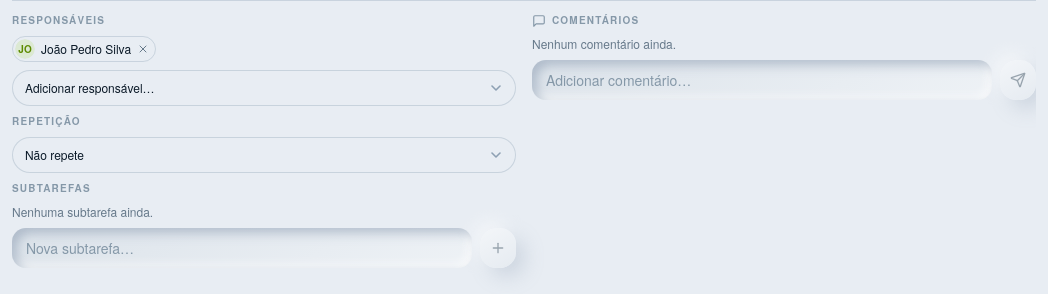
it: TaskDetailPanel › adds a new assignee from the picker and shows them right away
Expected: the text "João Pedro Silva" is shown, [41,40,131,57]
Select "Maria Fernanda Alves" in the dropdown named "adicionar responsável" at (264, 88), box [12,70,516,106]
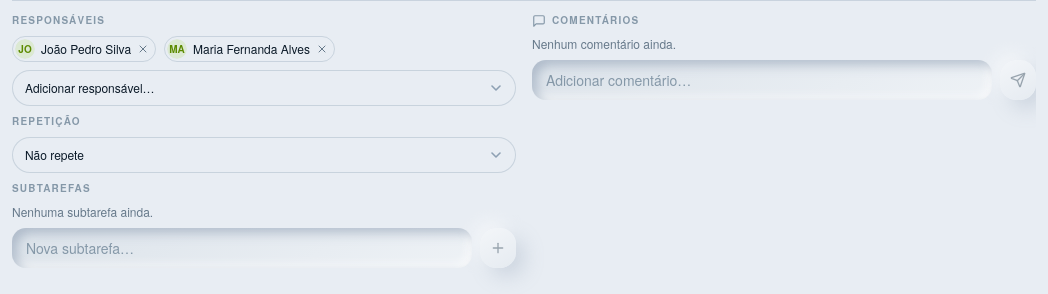
Now the text "Maria Fernanda Alves" is shown, box [193,40,310,57]
